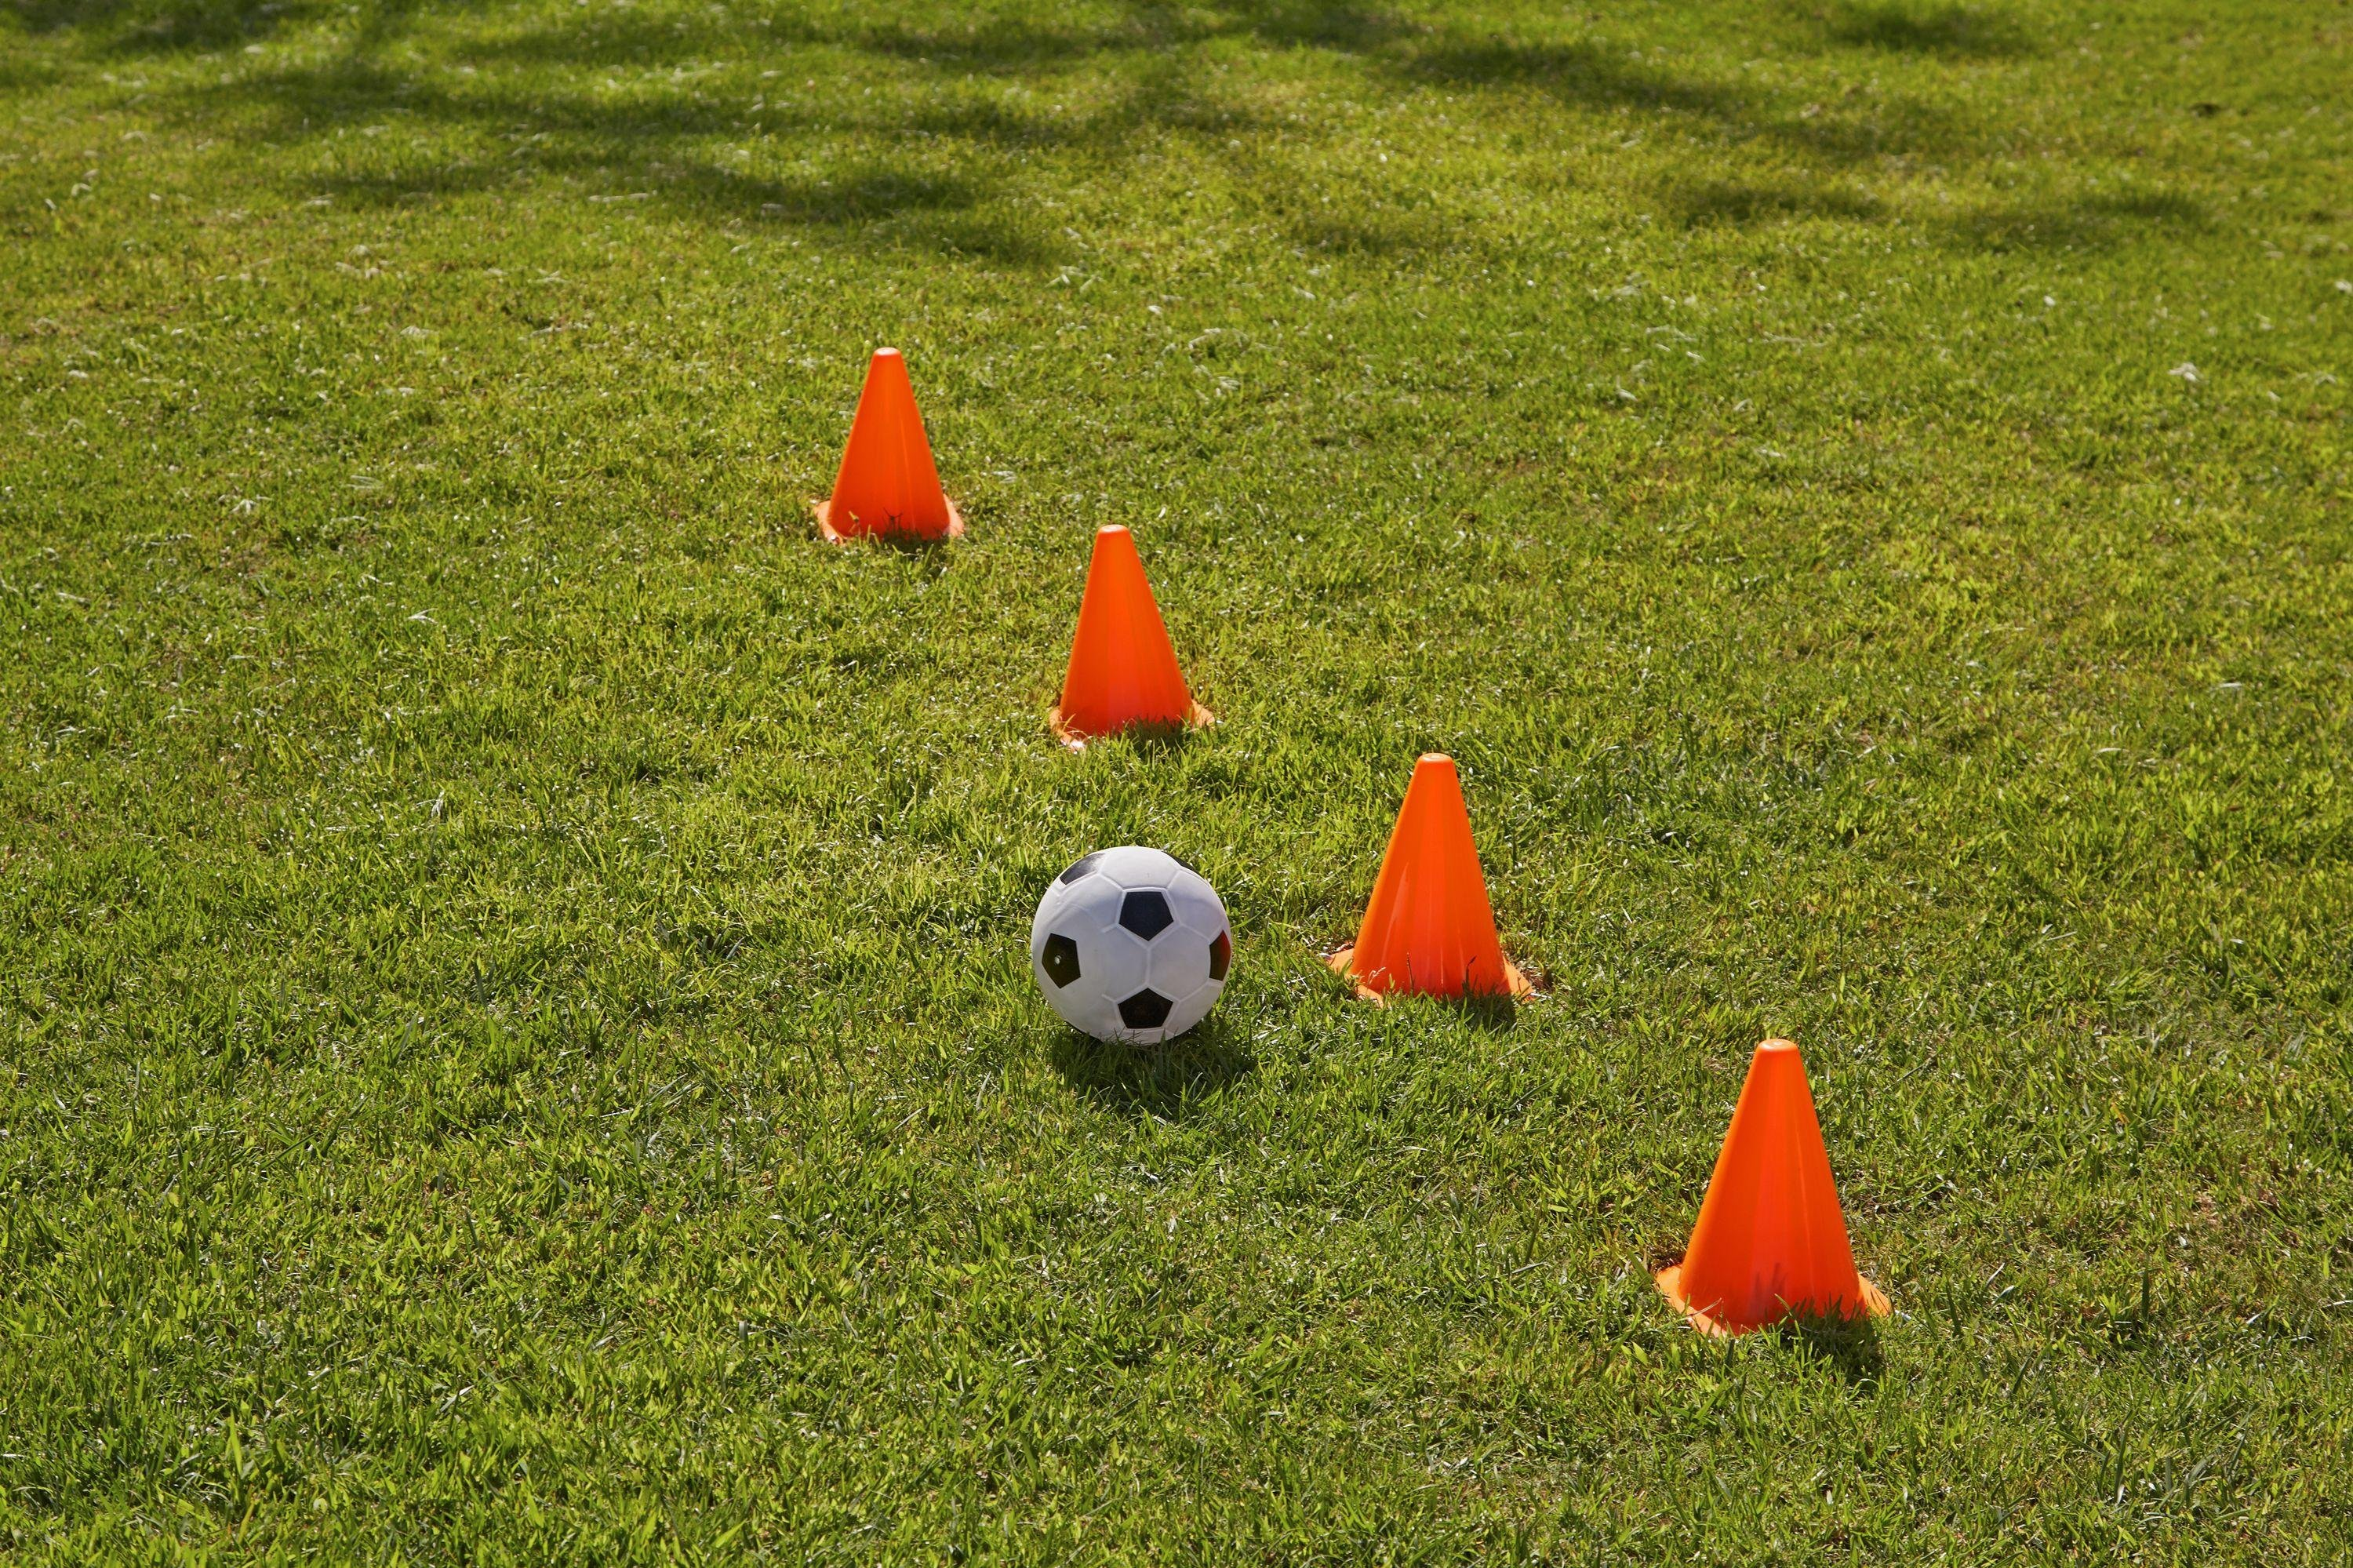cone: (1648, 1036, 1900, 1333), (1305, 747, 1533, 1011), (1037, 523, 1226, 752), (812, 346, 969, 553)
